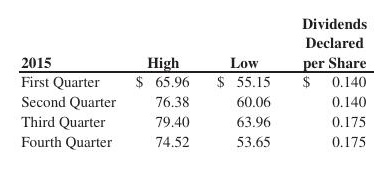table: (0, 0, 389, 175)
